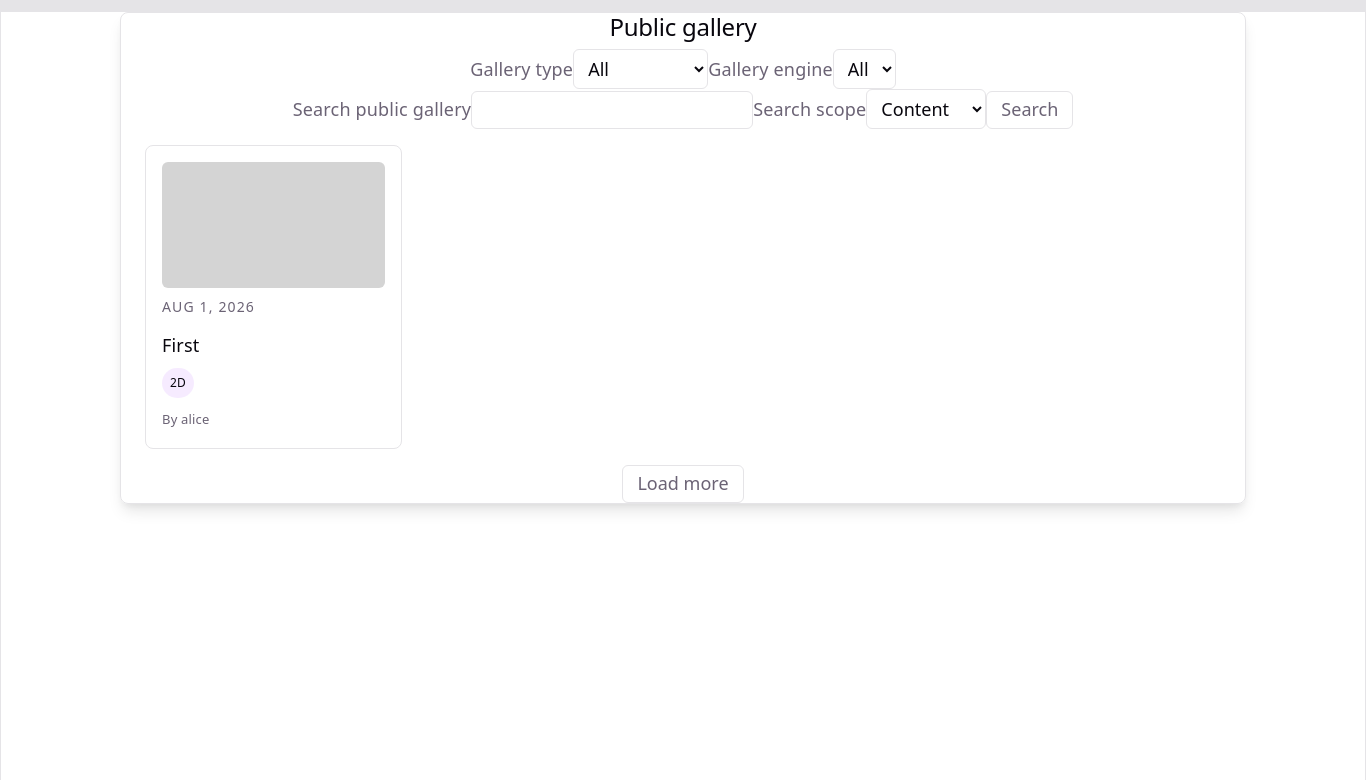
Scenario: PublicGallery pagination › de-duplicates a repeated card defensively even if the API ever returned one
Expected: the heading "First" is shown, [162,333,200,357]
Click the button "Load more" at (683, 484), box [622,465,744,503]
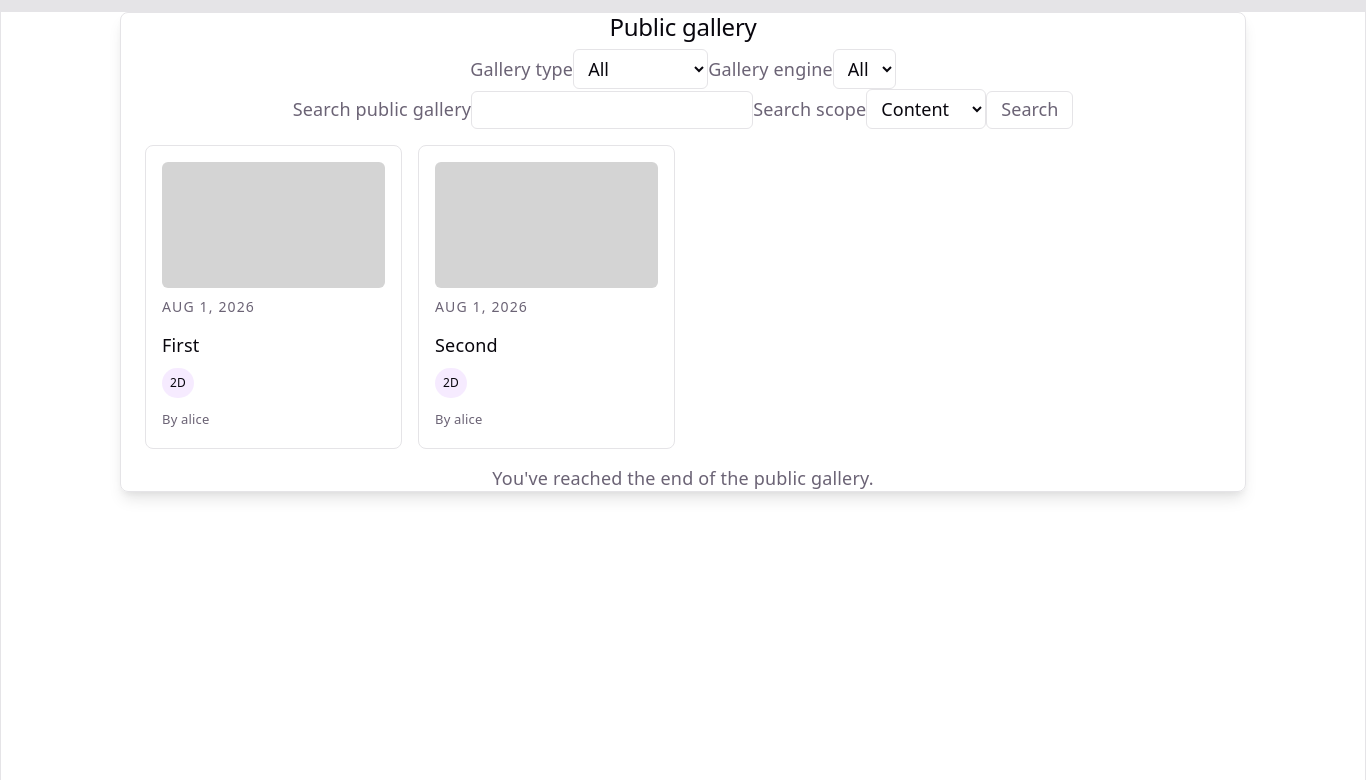
Expected: the number of headings "First" is 1, [162,333,200,357]
Expected: the heading "Second" is shown, [435,333,498,357]
